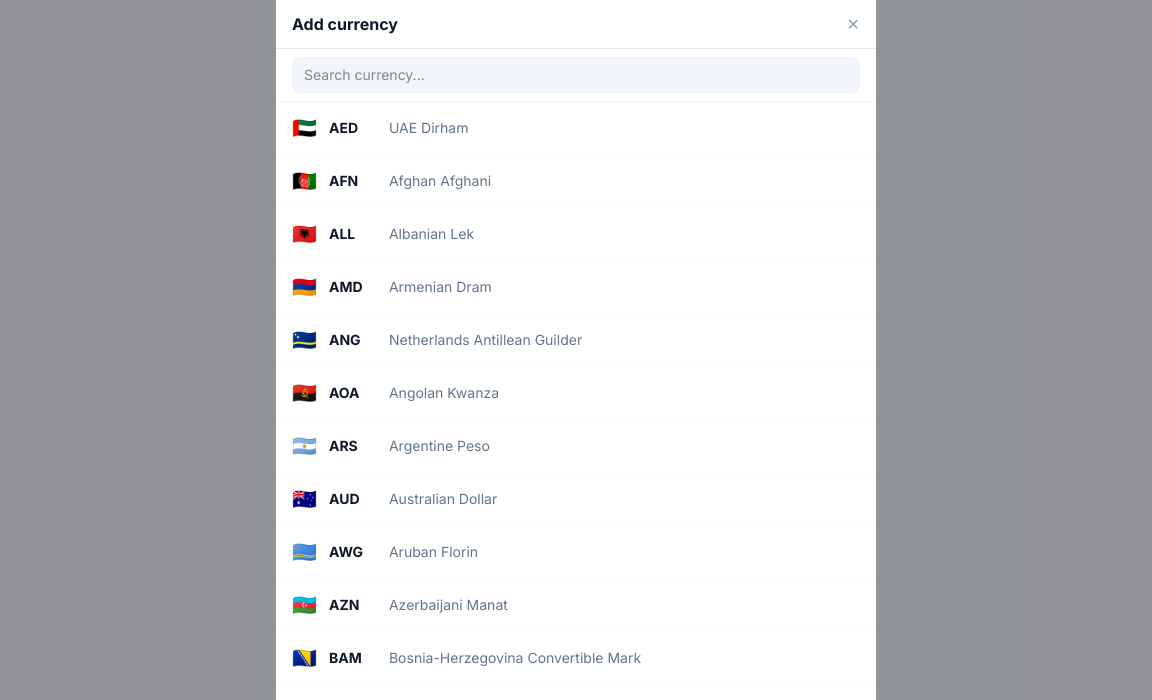
Test: CurrencyPicker › filters currencies by search term
Type "pound" into the field with placeholder "Search currency..." at point(576, 75), box 292,57 -> 860,93
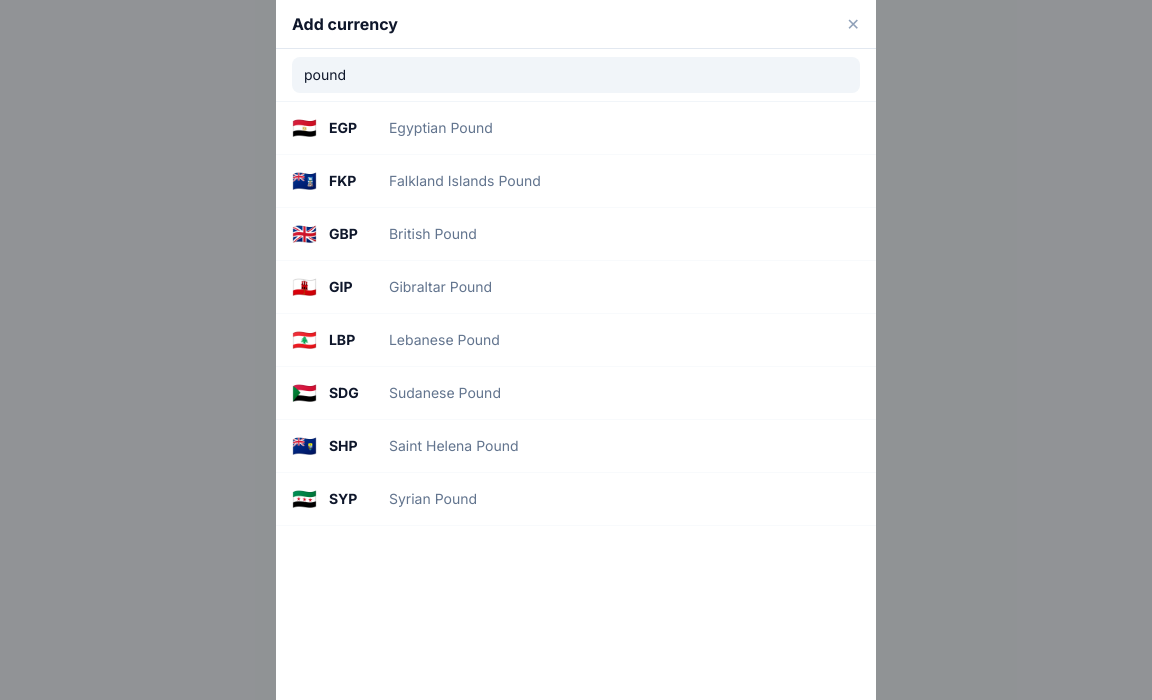
expect the text "British Pound" is shown: met, box 389,224 -> 477,244
